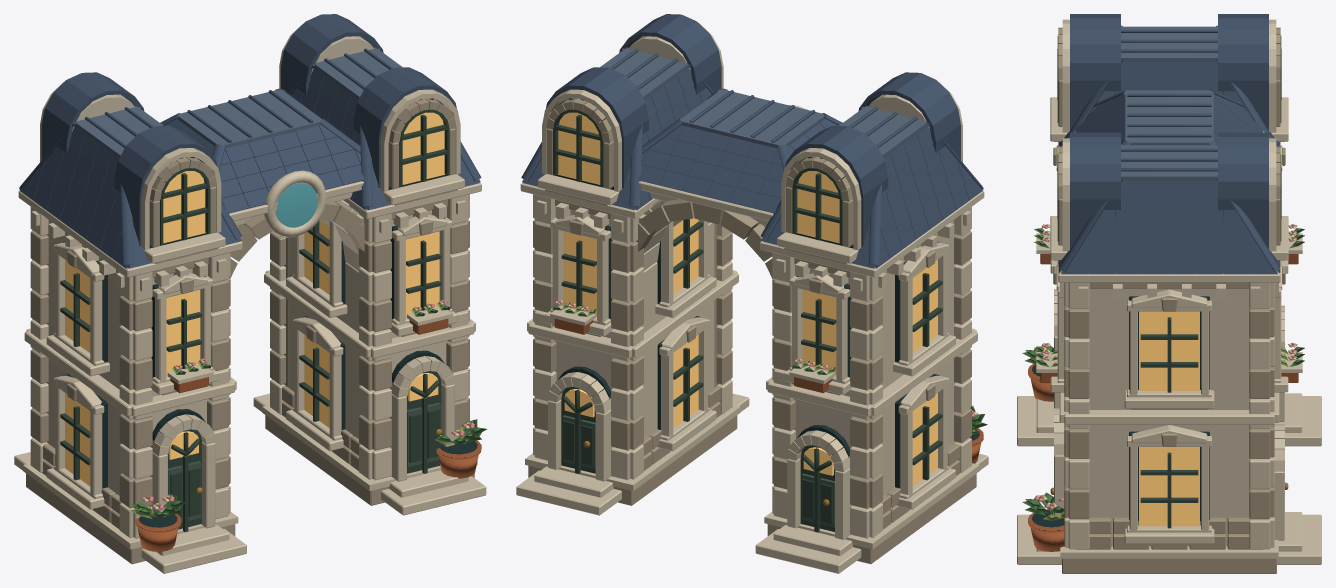
3 views of the same model, side by side, from view 1: azimuth 30°, elevation 25°; view 2: azimuth 150°, elevation 25°; view 3: azimuth 270°, elevation 25° (orthographic).
Parts seen in each view (by area): view 1: classic_teleport_gate_geometry, classic_teleport_gate_geometry ceramic; view 2: classic_teleport_gate_geometry, classic_teleport_gate_geometry ceramic; view 3: classic_teleport_gate_geometry, classic_teleport_gate_geometry ceramic.
Part boxes in pixels (box(x1,y1,x2,y2)): classic_teleport_gate_geometry: box(14, 23, 487, 573); classic_teleport_gate_geometry ceramic: box(19, 14, 481, 268); classic_teleport_gate_geometry: box(516, 24, 988, 573); classic_teleport_gate_geometry ceramic: box(521, 14, 983, 268); classic_teleport_gate_geometry: box(1017, 19, 1321, 573); classic_teleport_gate_geometry ceramic: box(1058, 14, 1280, 274).
Size of the model in its own units: 1.04 by 1.11 by 0.7418.
